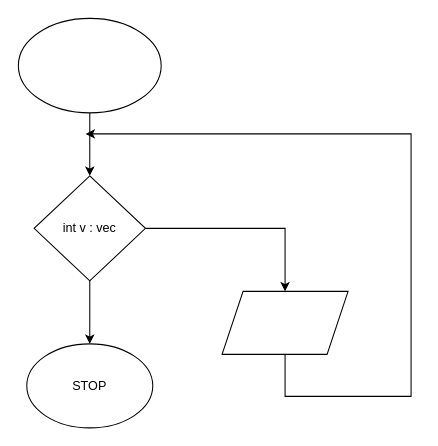
The diagram is 438 pixels wide and 446 high, and some of its shapes have lost their labels. The shapes that lost their labels are listed below. From the top down, each one's centre as x and y in pixels, then its label:
pixel 89 65: START void display_vec(const vector<int>& vec)
pixel 284 322: wypisz v wypisz ' '
